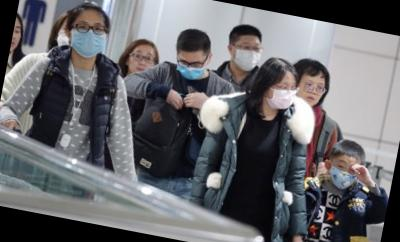with_mask: (66, 15, 111, 62), (230, 36, 265, 74), (324, 156, 360, 191), (266, 79, 299, 112), (174, 54, 208, 83)
without_mask: (297, 76, 328, 109), (127, 47, 158, 77)
